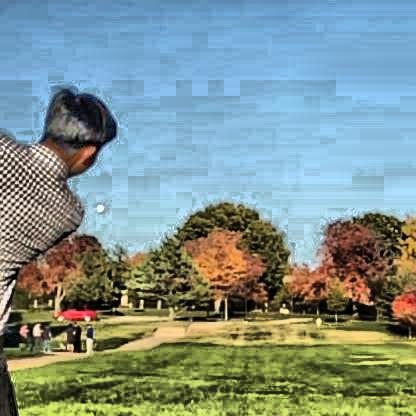golfball: (94, 200, 104, 214)
